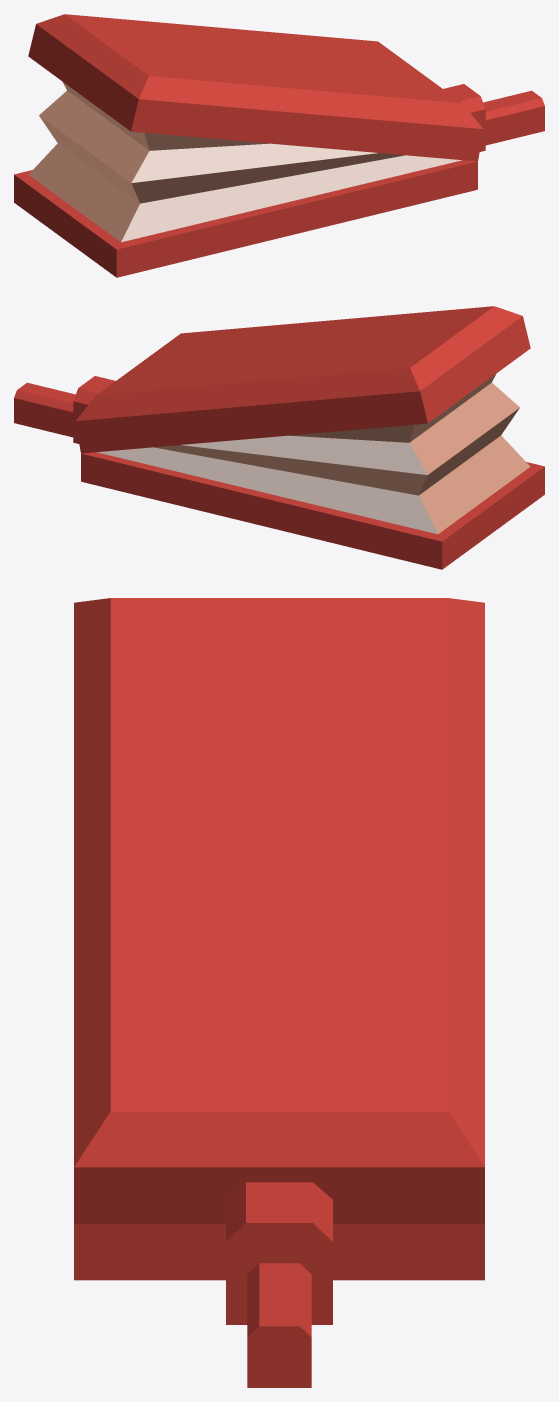
File: Fur.fbx
The picture shows the model from 3 angles, top to bottom: view 1: azimuth 30°, elevation 25°; view 2: azimuth 150°, elevation 25°; view 3: azimuth 270°, elevation 25°; orthographic projection. The views are drawn at different scales.
Parts seen in each view (by area): view 1: FurRotate, FurResize, FurBase; view 2: FurRotate, FurResize, FurBase; view 3: FurRotate, FurBase.
Boxes of the visible parts, x1,y1,x2,y2 form: FurRotate: (28, 14, 483, 161); FurResize: (28, 81, 461, 242); FurBase: (14, 84, 544, 277); FurRotate: (75, 306, 530, 453); FurResize: (97, 373, 530, 534); FurBase: (14, 376, 544, 569); FurRotate: (74, 598, 484, 1223); FurBase: (74, 1182, 484, 1387).
Bounding box in the file's own units: 170 × 63.63 × 64.06.
